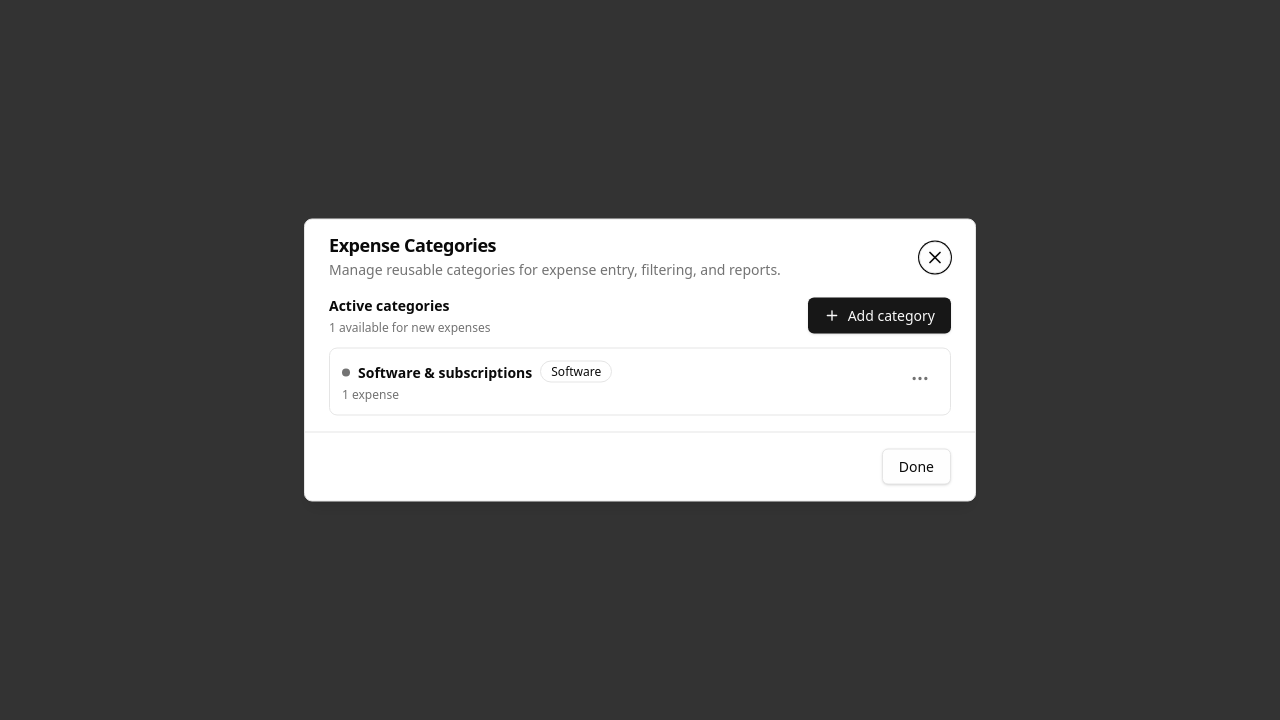
Test: ExpenseCategoryManagerModal › blocks deletion when the category is already in use
Click the button named "More actions" at coordinates (920, 378), box [902, 360, 938, 396]
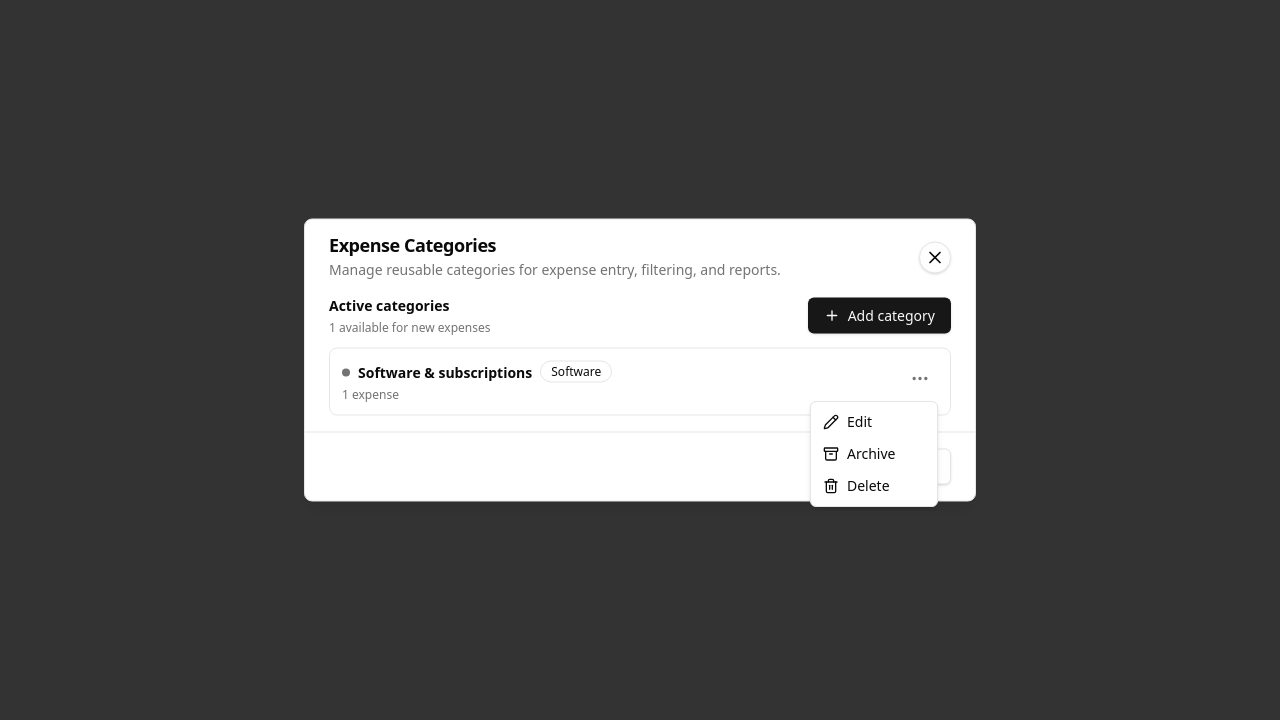
Click the menu item "Delete" at coordinates (856, 486), box [823, 476, 890, 495]
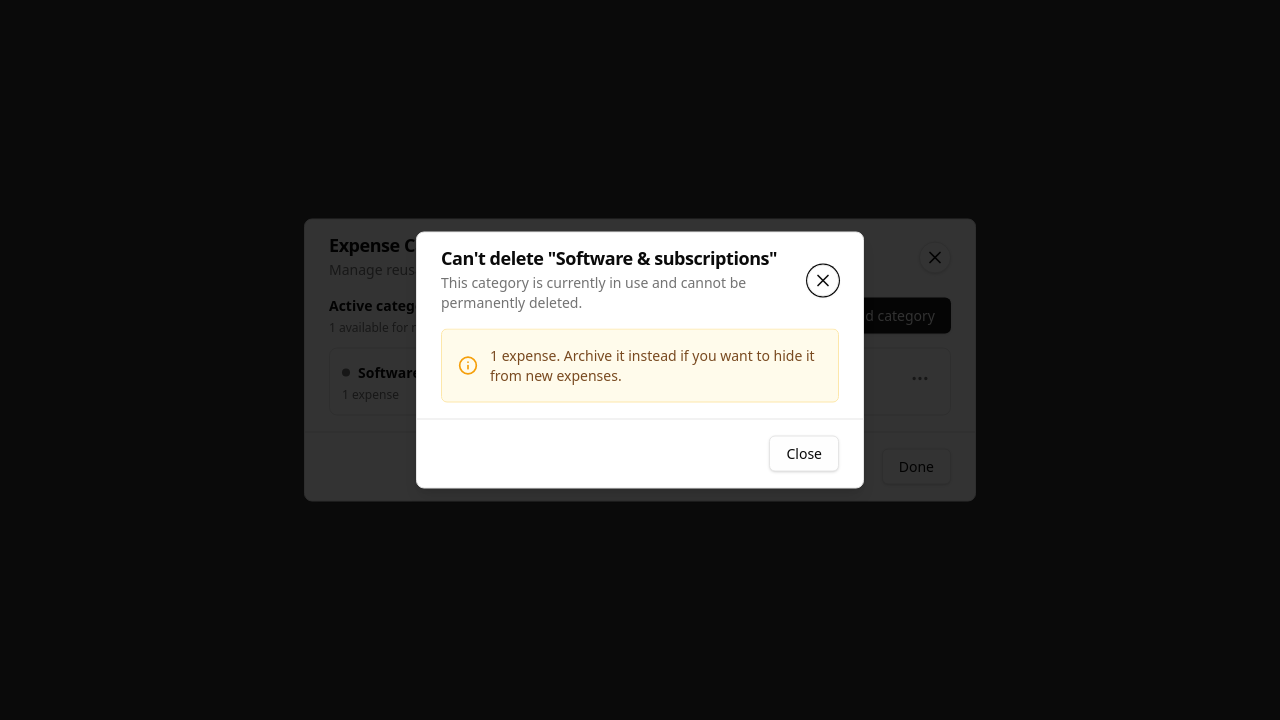
Now the dialog "Can't delete \"Software & subscriptions\"" is shown, box [416, 232, 864, 488]
Now the dialog "Can't delete \"Software & subscriptions\"" shows "1 expense. Archive it instead if you want to hide it from new expenses.", box [490, 346, 815, 384]
Click the button "Close" at coordinates (804, 454), box [770, 436, 839, 472]
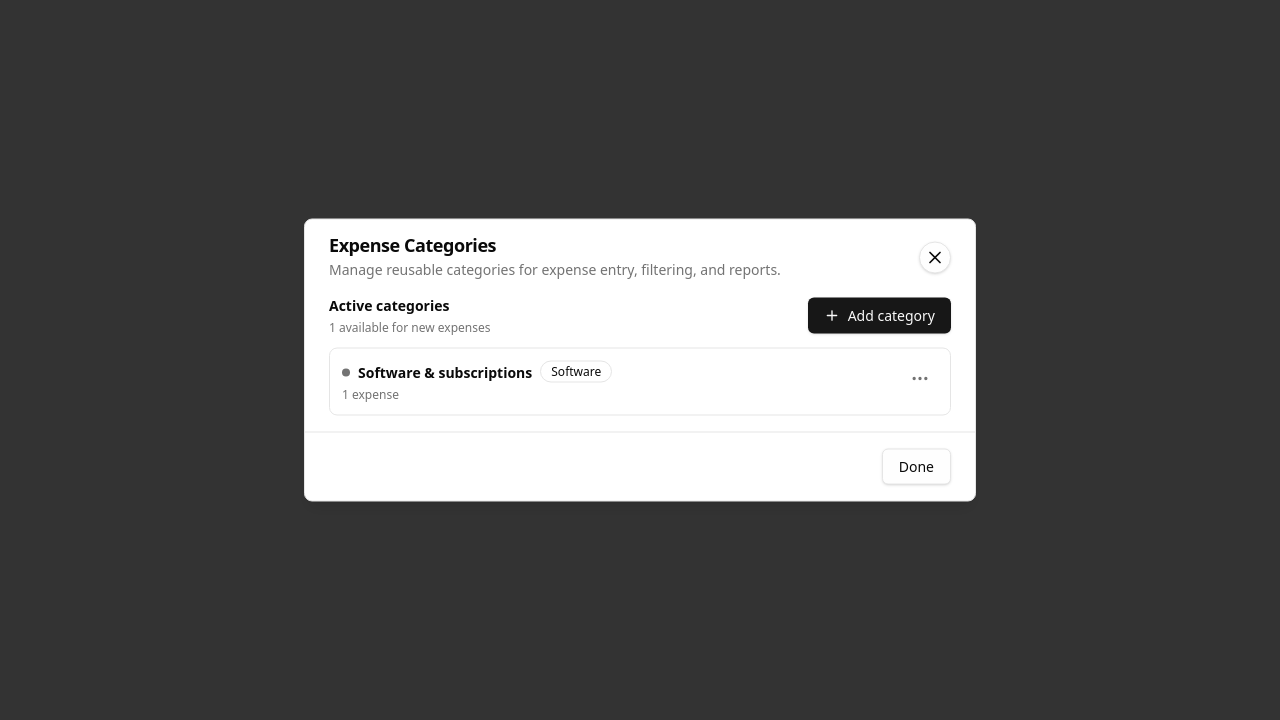
Now the heading "Can't delete \"Software & subscriptions\"" is gone
